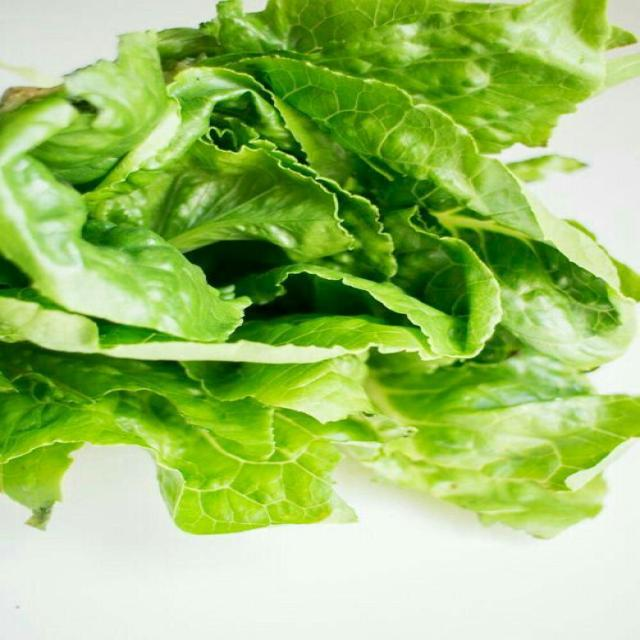lettuce: (0, 0, 639, 536)
